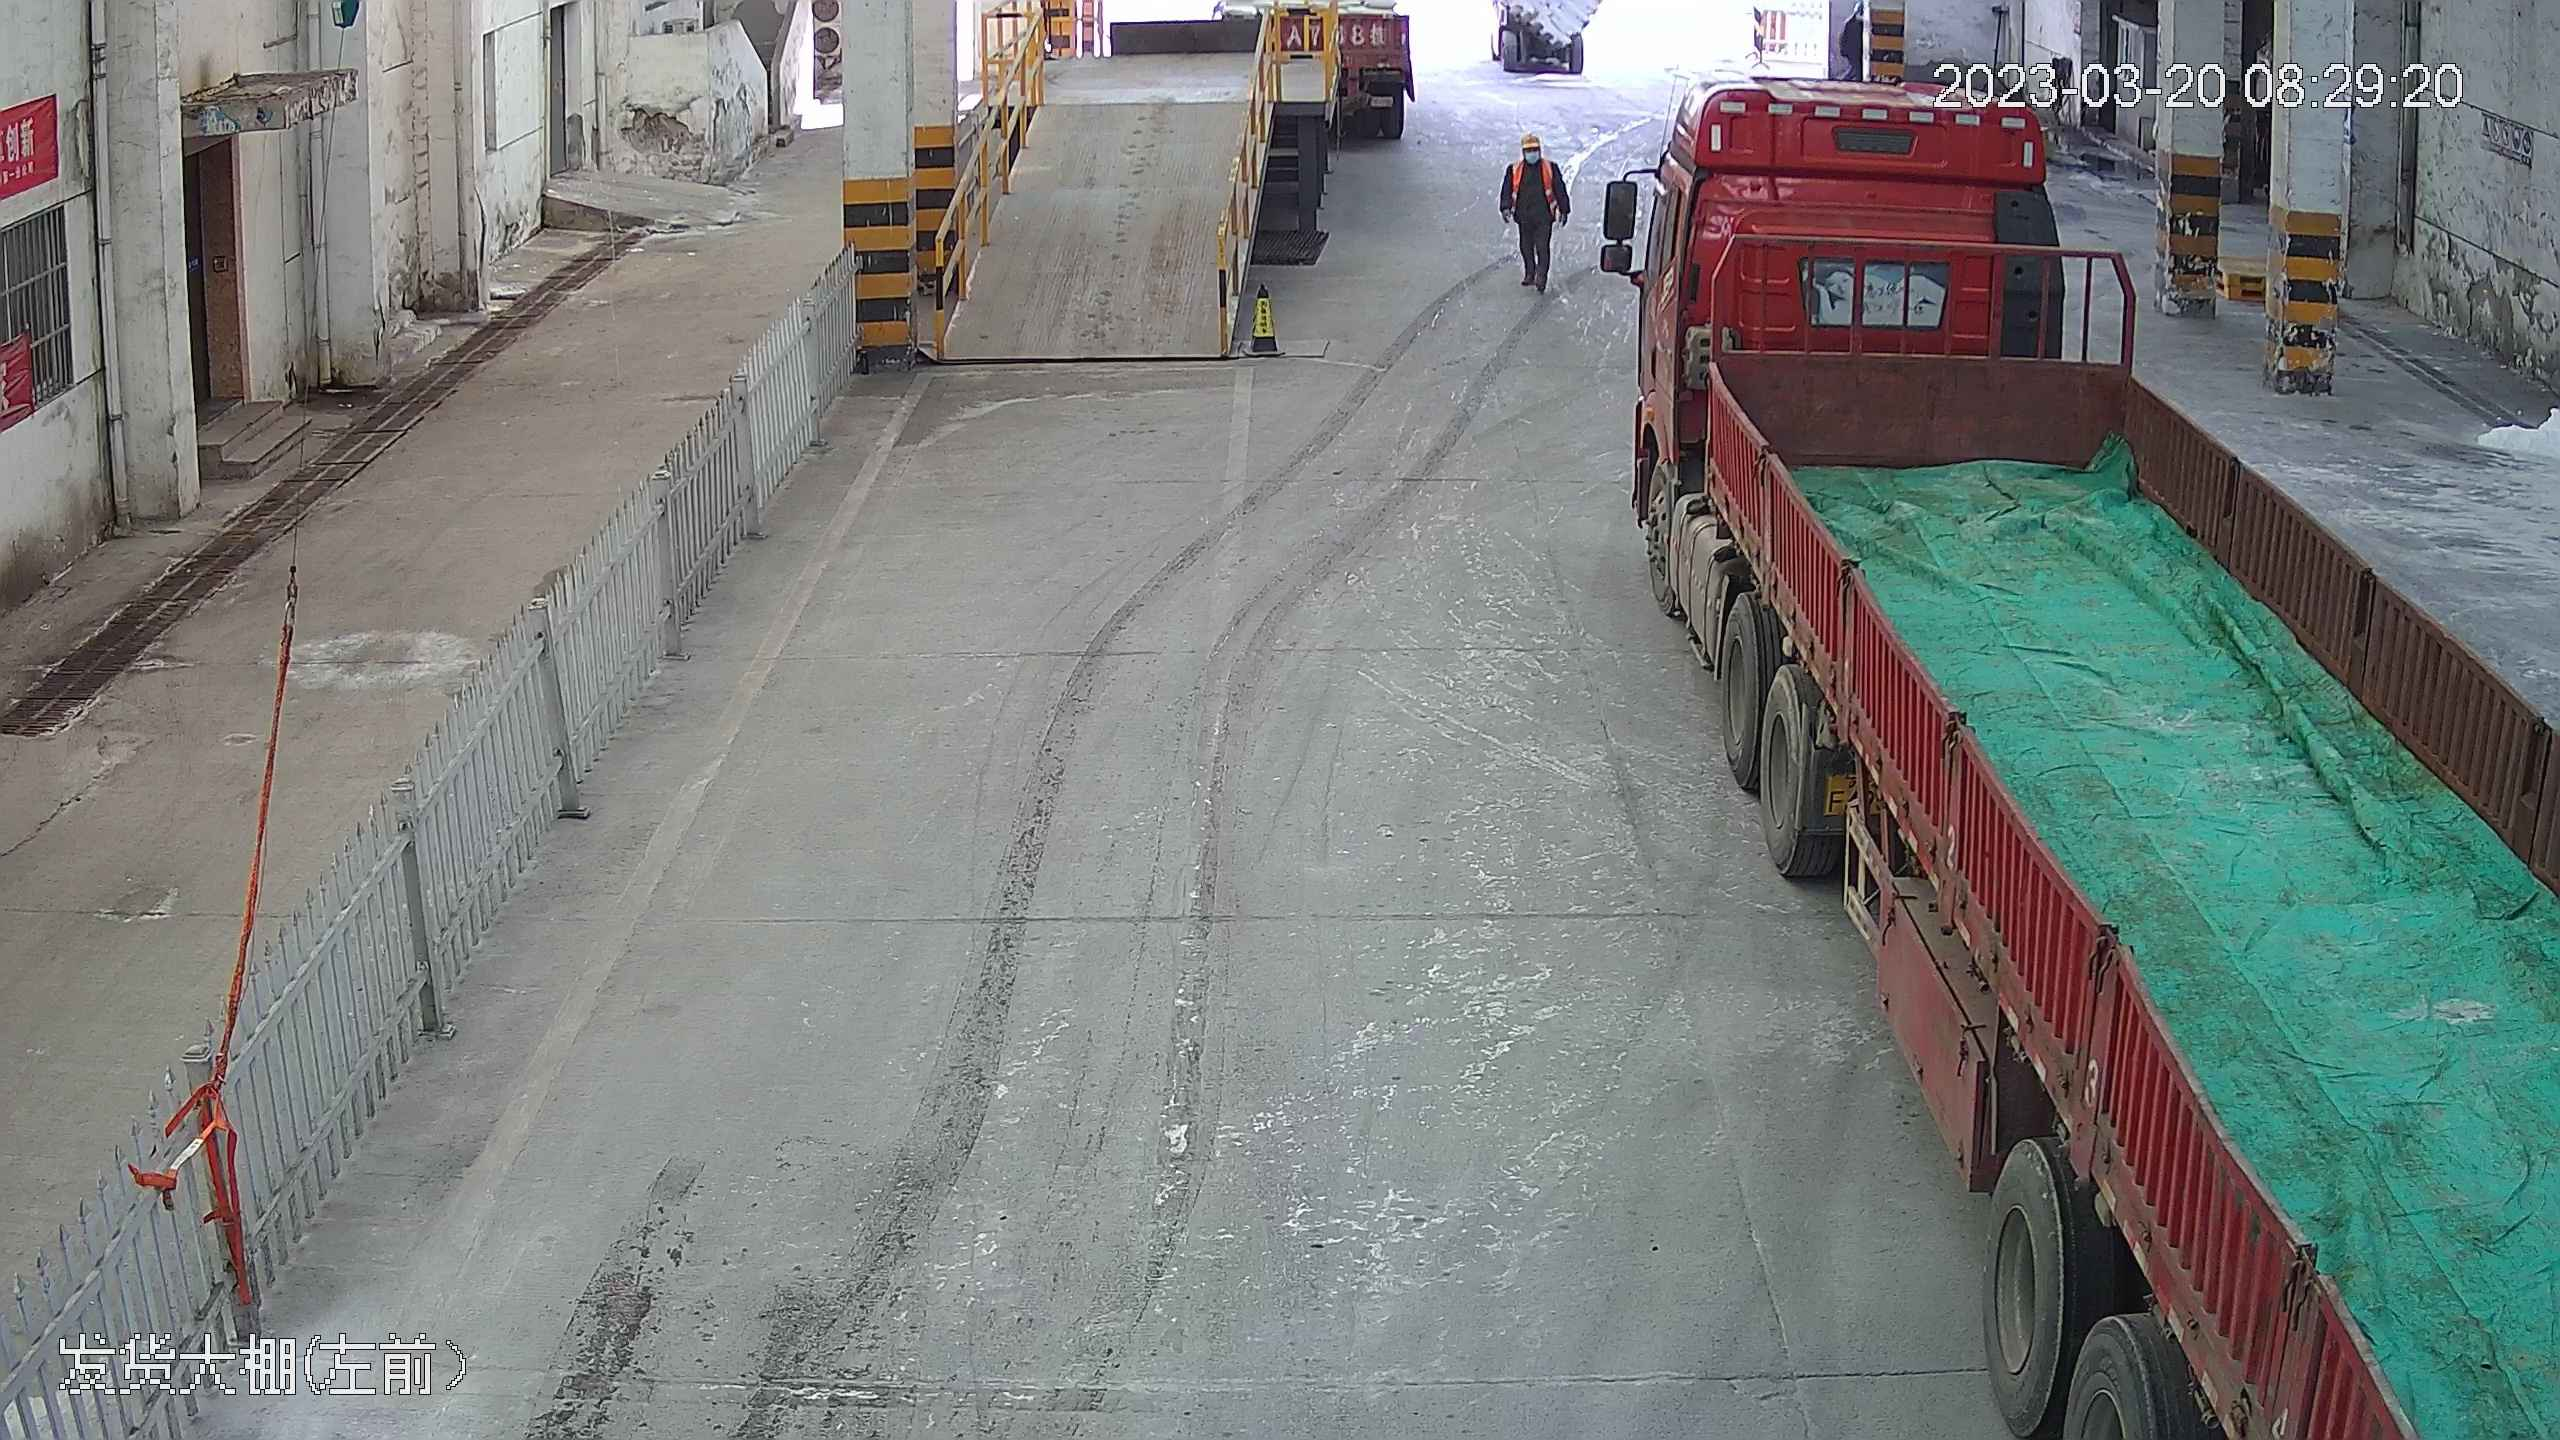head: (1509, 128, 1560, 177)
helmet: (1519, 133, 1542, 151)
people: (1503, 127, 1572, 297)
truck: (1625, 50, 2560, 1440)
